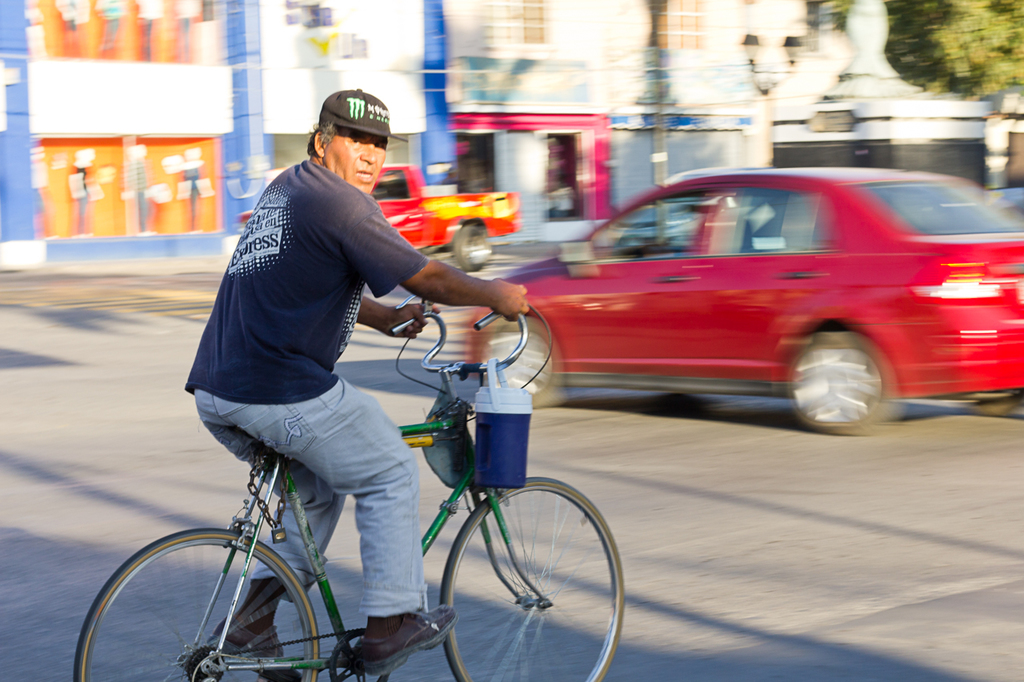Bicycle: (70, 297, 620, 681)
